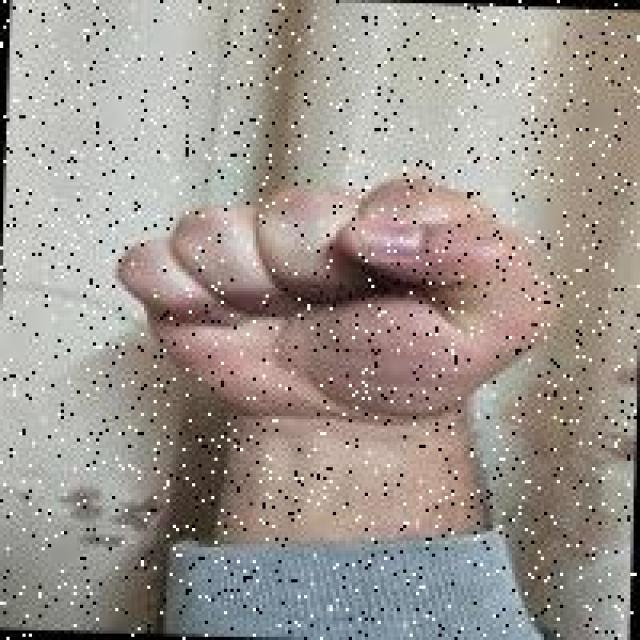S: (104, 157, 571, 429)
